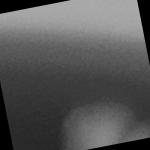colony: (50, 90, 144, 150), (107, 112, 150, 144)
